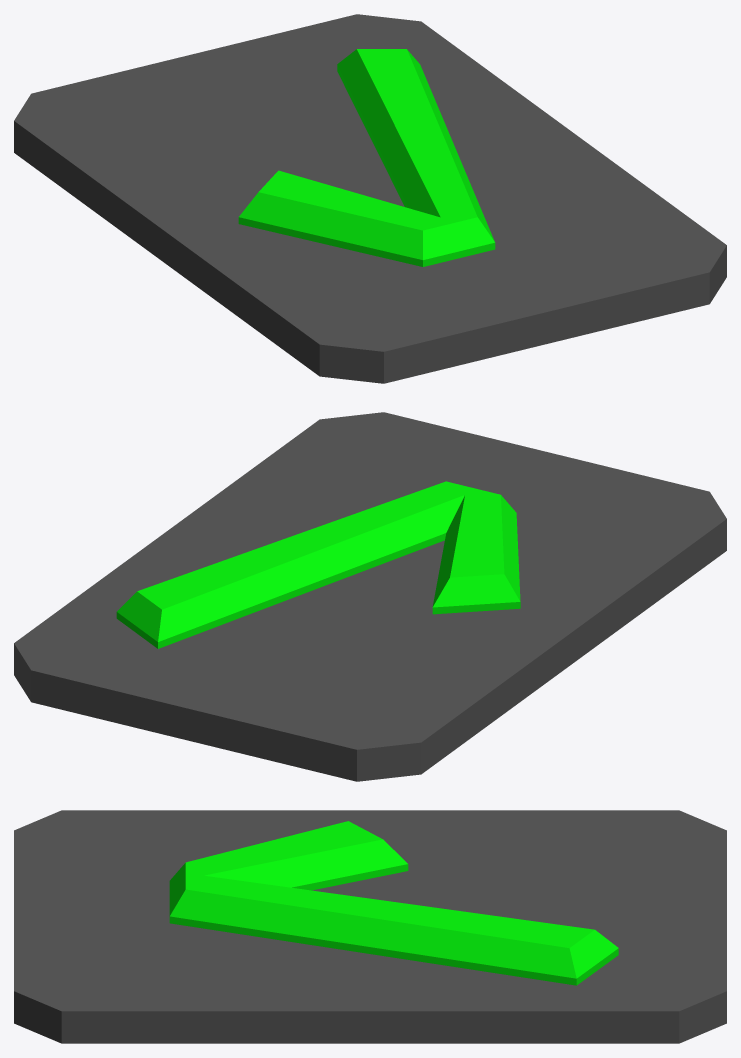
The model's file is CARD_01.FBX.
The picture shows the model from 3 angles, top to bottom: view 1: azimuth 30°, elevation 25°; view 2: azimuth 150°, elevation 25°; view 3: azimuth 270°, elevation 25°; orthographic projection.
Visible parts, largest first — view 1: Box062, CARD; view 2: Box062, CARD; view 3: Box062, CARD.
Part boxes in pixels (x1,y1,x2,y2): Box062: (14,14,726,383); CARD: (238,49,495,266); Box062: (14,412,726,781); CARD: (116,481,520,648); Box062: (14,810,726,1043); CARD: (169,821,618,985).
Bounding box in the file's own units: 20 × 2.85 × 30.
